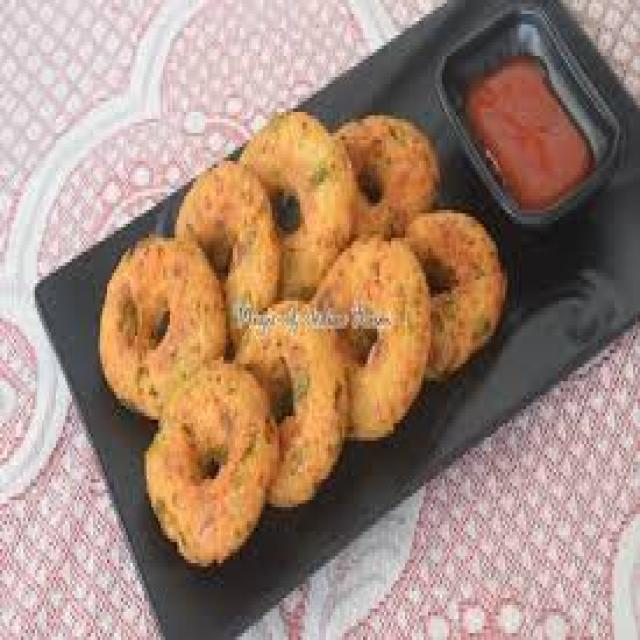MEDU VADA: (141, 364, 278, 566), (99, 235, 225, 420), (320, 238, 432, 444), (243, 296, 350, 508), (241, 115, 361, 301), (177, 163, 280, 343), (401, 210, 504, 379), (333, 114, 444, 238)
